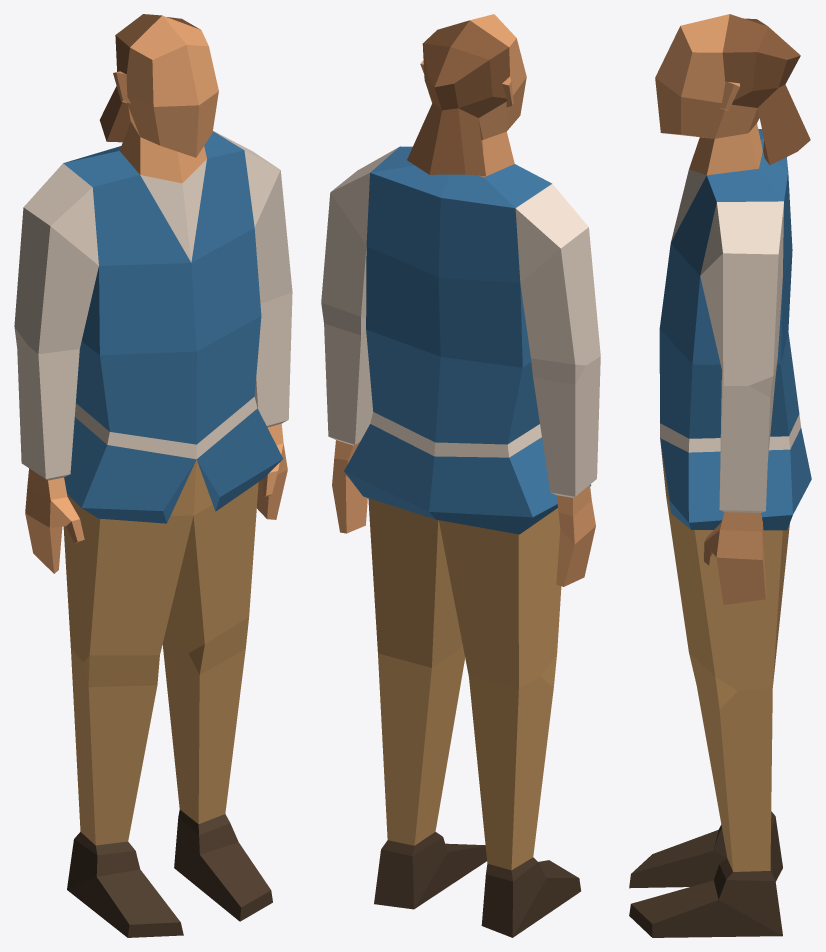
Rendered from man-servant.glb.
The picture shows the model from 3 angles, left to right: view 1: azimuth 30°, elevation 25°; view 2: azimuth 150°, elevation 25°; view 3: azimuth 270°, elevation 25°; orthographic projection.
Parts seen in each view (by area): view 1: man-servant; view 2: man-servant; view 3: man-servant.
Part boxes in pixels (bbox=[...]): man-servant: bbox=[14, 14, 292, 937]; man-servant: bbox=[321, 14, 600, 937]; man-servant: bbox=[629, 14, 811, 937].
Size of the model in its own units: 0.5438 by 1.79 by 0.3343.
Materials: 1 (1 with a texture image).
